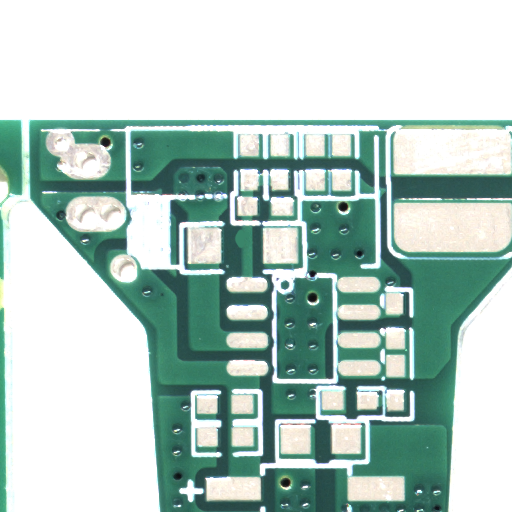Spur: (238, 238, 246, 255)
